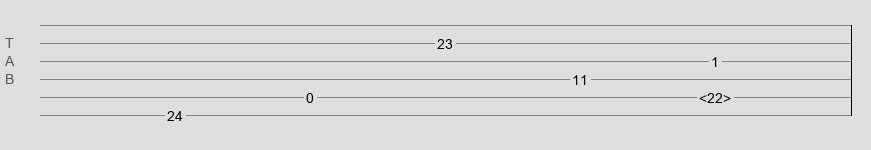0: (306, 90, 314, 100)
1: (711, 54, 719, 64)
11: (572, 72, 588, 82)
23: (437, 36, 453, 46)
24: (167, 108, 183, 118)
harmonic: (699, 90, 731, 100)
